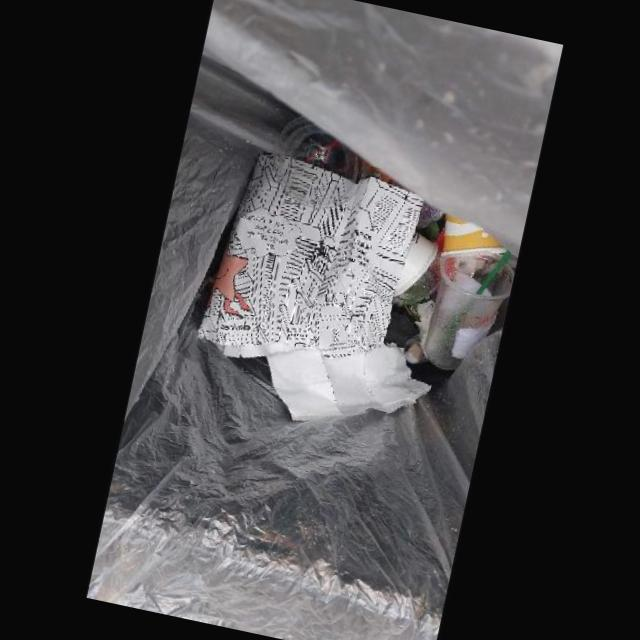carton: (441, 213, 506, 256)
giay: (198, 152, 423, 357), (266, 342, 431, 420)
hop_nhua: (424, 250, 515, 369)
ong_hut_nhua: (444, 249, 510, 340)
